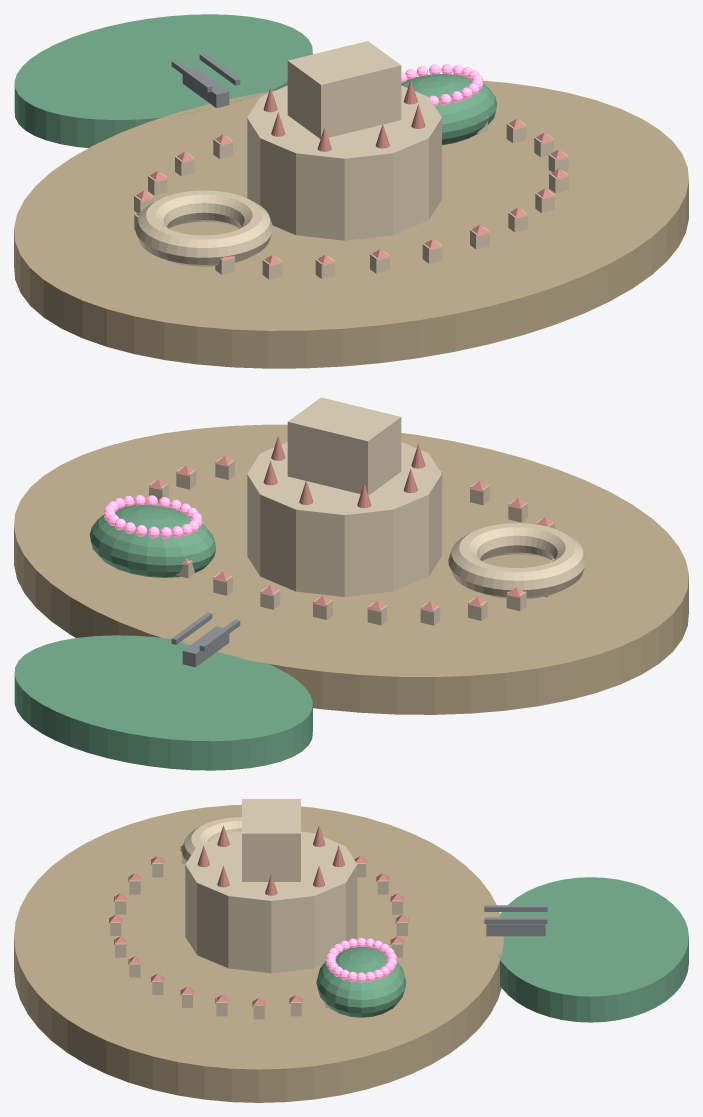
Rendered from dressrosa-green-bit.glb.
3 views of the same model, one above another, from view 1: azimuth 30°, elevation 25°; view 2: azimuth 150°, elevation 25°; view 3: azimuth 270°, elevation 25° (orthographic). The views are drawn at different scales.
Parts seen in each view (by area): view 1: Dressrosa, Green Bit, Kings Plateau, Royal Palace, Corrida Colosseum, Flower Hill, Green Bit iron bridge; view 2: Dressrosa, Green Bit, Kings Plateau, Royal Palace, Corrida Colosseum, Flower Hill, Green Bit iron bridge; view 3: Dressrosa, Green Bit, Kings Plateau, Royal Palace, Flower Hill, Corrida Colosseum, Green Bit iron bridge.
Boxes of the visible parts, left/top/right/bottom form: Dressrosa: left=14, top=79, right=688, bottom=368; Green Bit: left=14, top=14, right=312, bottom=147; Kings Plateau: left=247, top=85, right=441, bottom=240; Royal Palace: left=287, top=41, right=401, bottom=138; Corrida Colosseum: left=135, top=190, right=272, bottom=266; Flower Hill: left=401, top=73, right=497, bottom=145; Green Bit iron bridge: left=182, top=67, right=229, bottom=107; Dressrosa: left=14, top=424, right=688, bottom=714; Green Bit: left=14, top=635, right=312, bottom=770; Kings Plateau: left=247, top=442, right=441, bottom=596; Royal Palace: left=287, top=397, right=401, bottom=495; Corrida Colosseum: left=448, top=523, right=586, bottom=598; Flower Hill: left=89, top=505, right=216, bottom=577; Green Bit iron bridge: left=182, top=626, right=229, bottom=667; Dressrosa: left=14, top=805, right=503, bottom=1102; Green Bit: left=496, top=877, right=688, bottom=1022; Kings Plateau: left=185, top=831, right=357, bottom=973; Royal Palace: left=242, top=799, right=300, bottom=881; Flower Hill: left=316, top=947, right=406, bottom=1017; Corrida Colosseum: left=181, top=817, right=241, bottom=862; Green Bit iron bridge: left=486, top=924, right=545, bottom=936.
Bounding box in the file's own units: 15.33 × 4.33 × 16.49.
